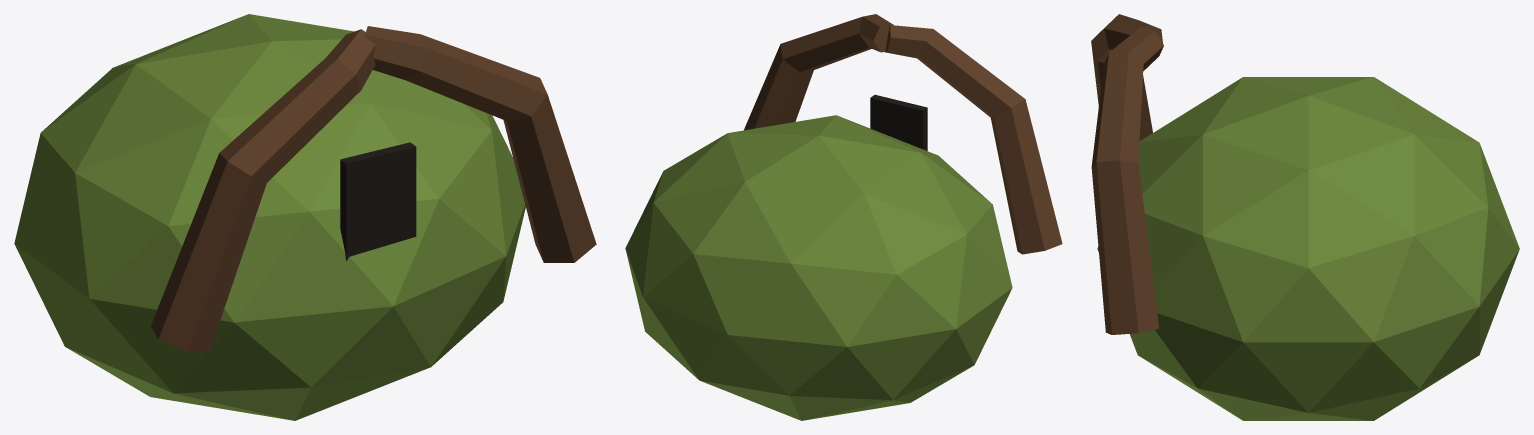
File: treekin_house_c.glb
3 views of the same model, side by side, from view 1: azimuth 30°, elevation 25°; view 2: azimuth 150°, elevation 25°; view 3: azimuth 270°, elevation 25° (orthographic). The views are drawn at different scales.
Parts seen in each view (by area): view 1: treekin_house_c; view 2: treekin_house_c; view 3: treekin_house_c.
Boxes of the visible parts, left/top/right/bottom form: treekin_house_c: left=14, top=14, right=596, bottom=420; treekin_house_c: left=625, top=14, right=1062, bottom=420; treekin_house_c: left=1091, top=14, right=1519, bottom=420.
Bounding box in the file's own units: 2.51 × 2.36 × 2.44.
